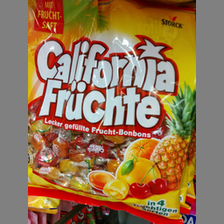candy: (28, 1, 196, 224)
